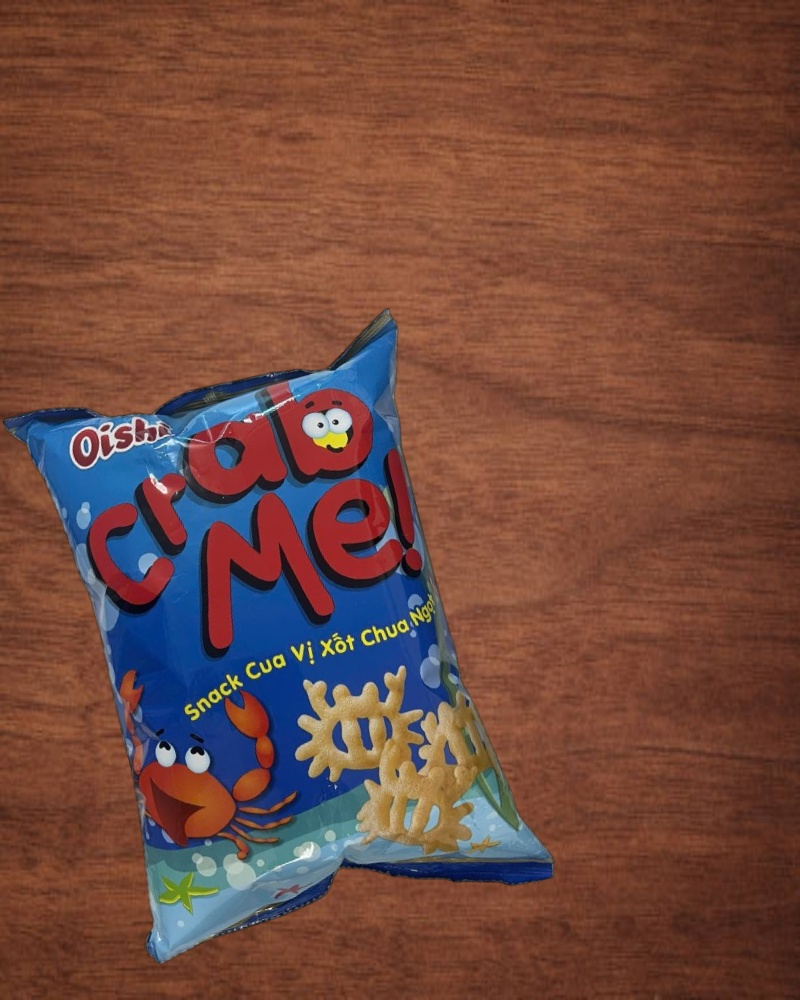Snack cua: (1, 304, 557, 978)
